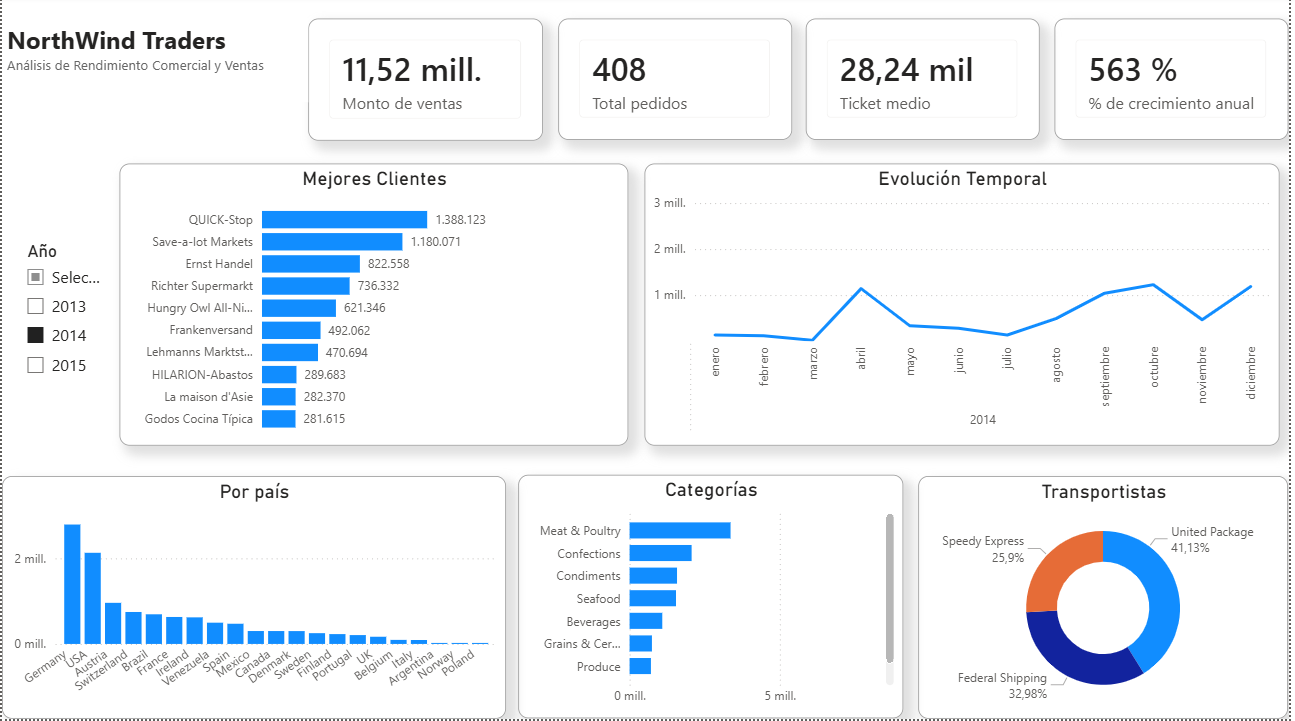

The dashboard page shown, as its layout file describes it:
{"tool":"powerbi","page":{"name":"Página 1","canvas":[1280,720],"ordinal":0},"visuals":[{"type":"cardVisual","fields":{"Data":["_Medidas.Monto de ventas"]},"box":[304.8,22.4,233.9,121.9],"z":0},{"type":"cardVisual","fields":{"Data":["_Medidas.Total pedidos"]},"box":[553.1,22.4,232.6,120.7],"z":1000},{"type":"cardVisual","fields":{"Data":["_Medidas.Ticket medio"]},"box":[800.3,22.4,232.6,120.7],"z":2000},{"type":"cardVisual","fields":{"Data":["_Medidas.% de crecimiento anual"]},"box":[1047.4,22.4,232.6,120.7],"z":3000},{"type":"clusteredBarChart","title":"Mejores Clientes","fields":{"Category":["dim_clientes.companyName"],"Y":["_Medidas.Monto de ventas"]},"box":[116.9,166.7,506.3,281.1],"z":4000},{"type":"lineChart","title":"Evolución Temporal","fields":{"Category":["dim_calendario.Date.Variación.Jerarquía de fechas.Año","dim_calendario.Date.Variación.Jerarquía de fechas.Mes"],"Y":["_Medidas.Monto de ventas"]},"box":[639.4,166.7,631.9,281.1],"z":5000},{"type":"columnChart","title":"Por país","fields":{"Category":["dim_clientes.country"],"Y":["_Medidas.Monto de ventas"]},"box":[0,477.7,501.3,241.3],"z":6000},{"type":"clusteredBarChart","title":"Categorías","fields":{"Category":["dim_productos.categoryName"],"Y":["_Medidas.Monto de ventas"]},"box":[513.8,476.4,383.1,242.6],"z":7000},{"type":"donutChart","title":"Transportistas","fields":{"Category":["dim_transportistas.companyName"],"Y":["_Medidas.Monto de ventas"]},"box":[911.8,477.7,368.2,241.3],"z":8000},{"type":"slicer","fields":{"Values":["dim_calendario.Date.Variación.Jerarquía de fechas.Año"]},"box":[12.4,238.2,94.5,148],"z":9000},{"type":"textbox","box":[0,22.4,304.8,83.3],"z":9001}]}

Visuals, with their boxes in screenshot pixels (x1, y1, x2, y2), scaled from the page's 1280x720 canvas onto the 1295x721 screenshot:
cardVisual - _Medidas.Monto de ventas: {"x1": 308, "y1": 22, "x2": 545, "y2": 145}
cardVisual - _Medidas.Total pedidos: {"x1": 560, "y1": 22, "x2": 795, "y2": 143}
cardVisual - _Medidas.Ticket medio: {"x1": 810, "y1": 22, "x2": 1045, "y2": 143}
cardVisual - _Medidas.% de crecimiento anual: {"x1": 1060, "y1": 22, "x2": 1294, "y2": 143}
"Mejores Clientes" clusteredBarChart: {"x1": 118, "y1": 167, "x2": 631, "y2": 448}
"Evolución Temporal" lineChart: {"x1": 647, "y1": 167, "x2": 1286, "y2": 448}
"Por país" columnChart: {"x1": 0, "y1": 478, "x2": 507, "y2": 720}
"Categorías" clusteredBarChart: {"x1": 520, "y1": 477, "x2": 907, "y2": 720}
"Transportistas" donutChart: {"x1": 922, "y1": 478, "x2": 1294, "y2": 720}
slicer - dim_calendario.Date.Variación.Jerarquía de fechas.Año: {"x1": 13, "y1": 239, "x2": 108, "y2": 387}
textbox: {"x1": 0, "y1": 22, "x2": 308, "y2": 106}
